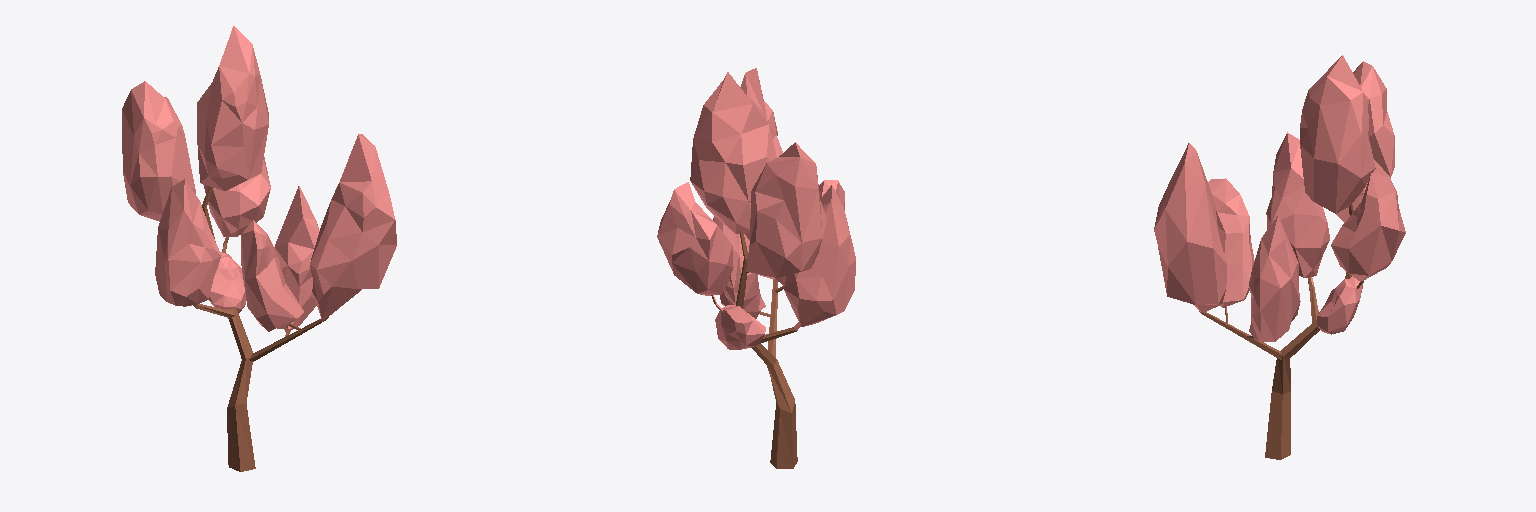
The model's file is tree_blossom2t.obj.
3 renders of one model, left to right at view 1: azimuth 30°, elevation 25°; view 2: azimuth 150°, elevation 25°; view 3: azimuth 270°, elevation 25°, orthographic.
Bounding box in the file's own units: 6.82 × 14.83 × 8.24.